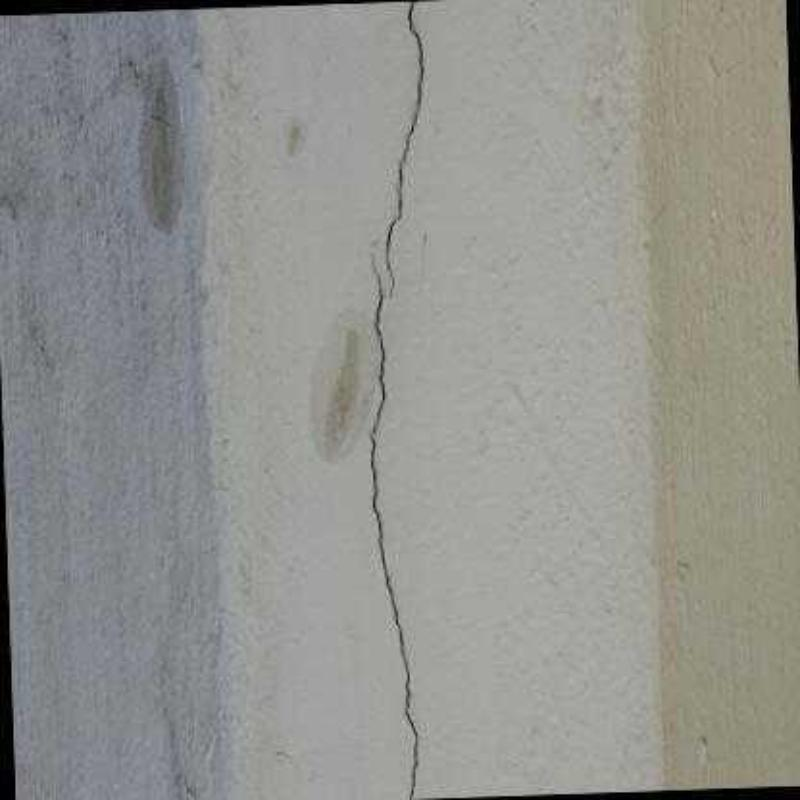pothole: (371, 254, 418, 798), (386, 0, 425, 302)
